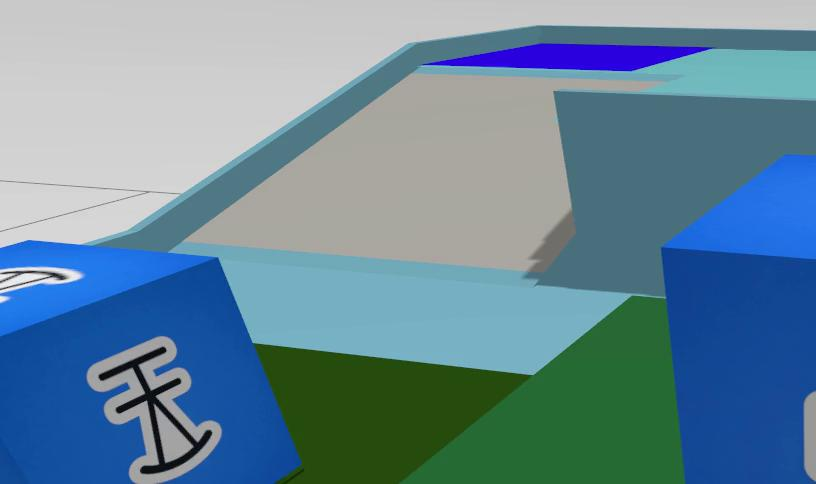KFS_REAL: (0, 241, 300, 484), (662, 155, 816, 484), (88, 337, 221, 484), (803, 392, 816, 480)
